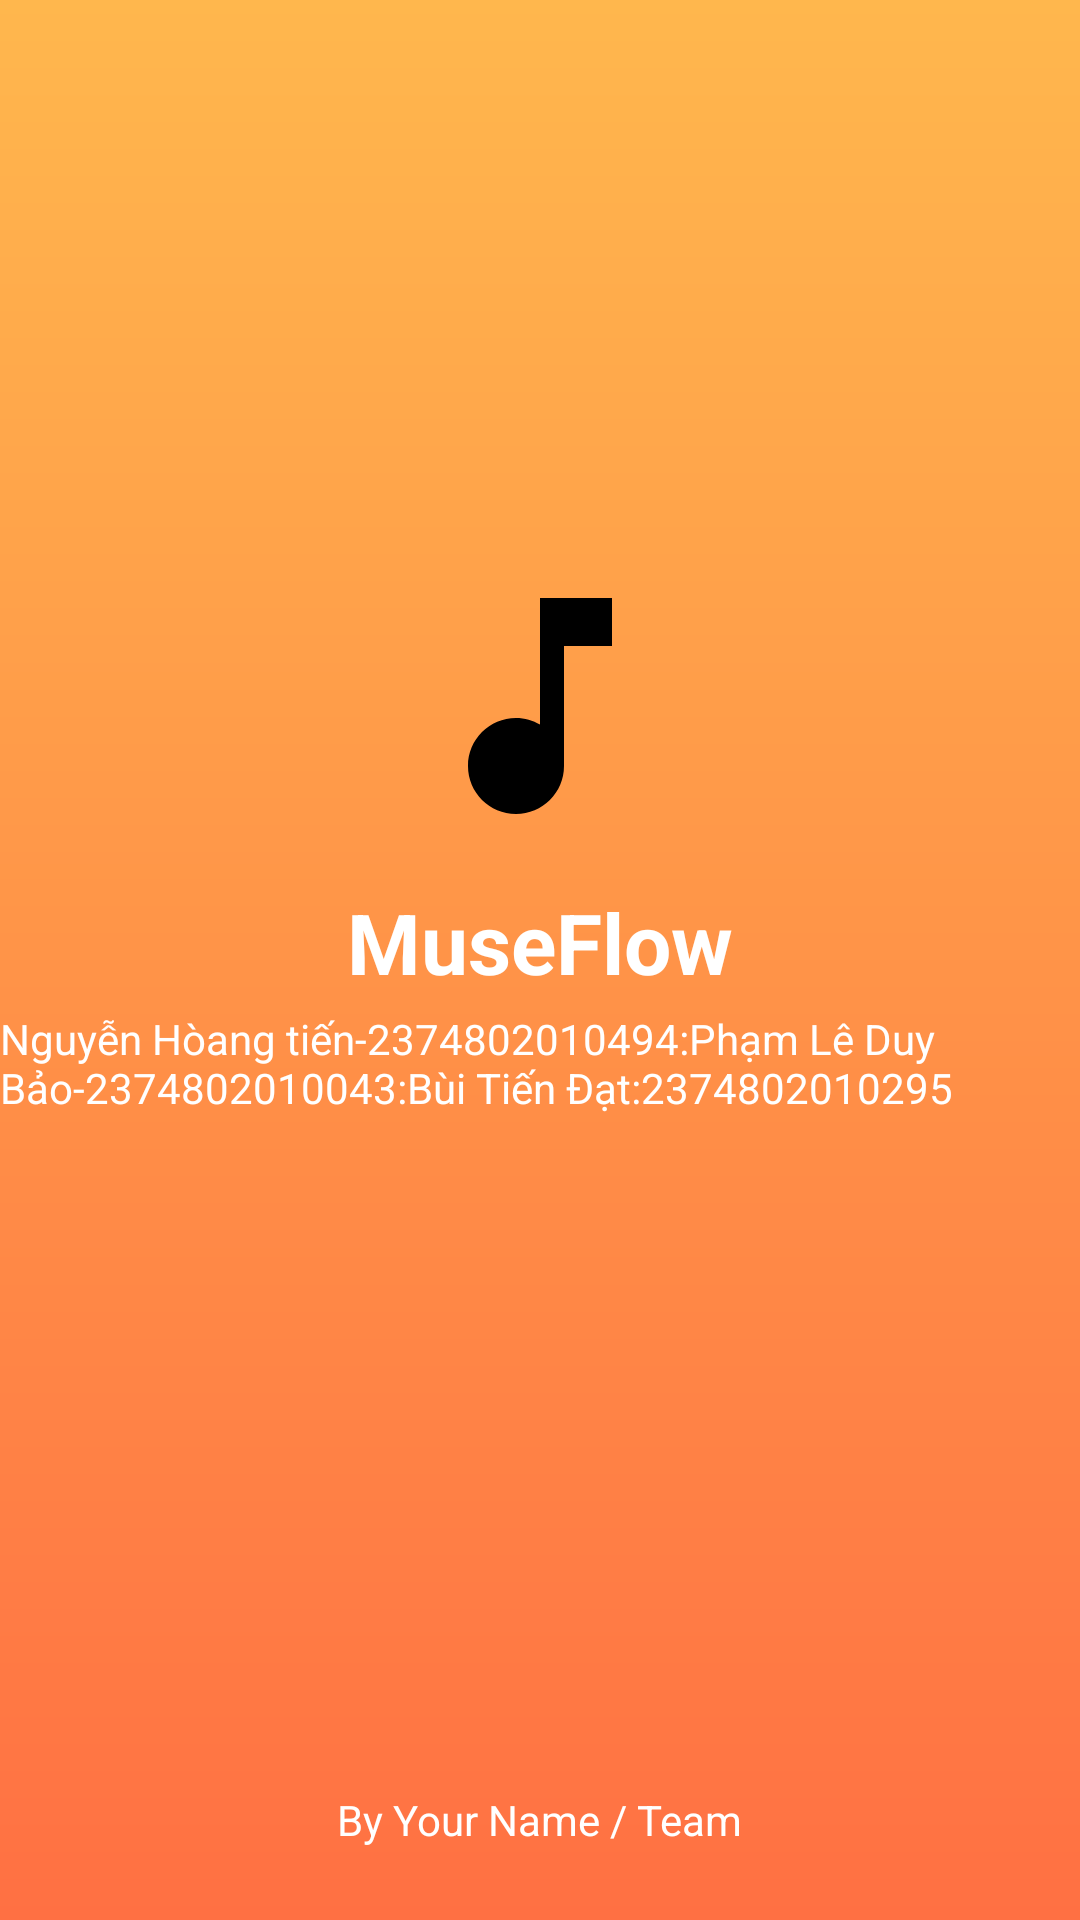

Icons on this 1080 x 1920 Android screen, each with the point to tap as [x,y]:
music note: [540,706]
